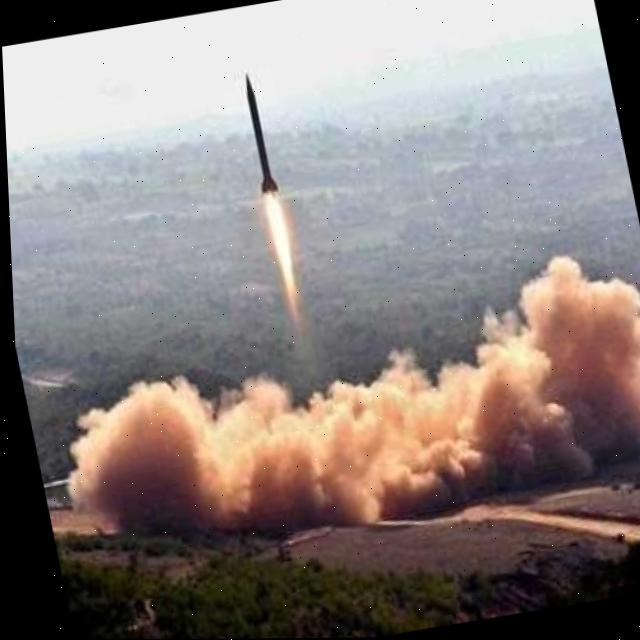missile: (232, 67, 284, 201)
